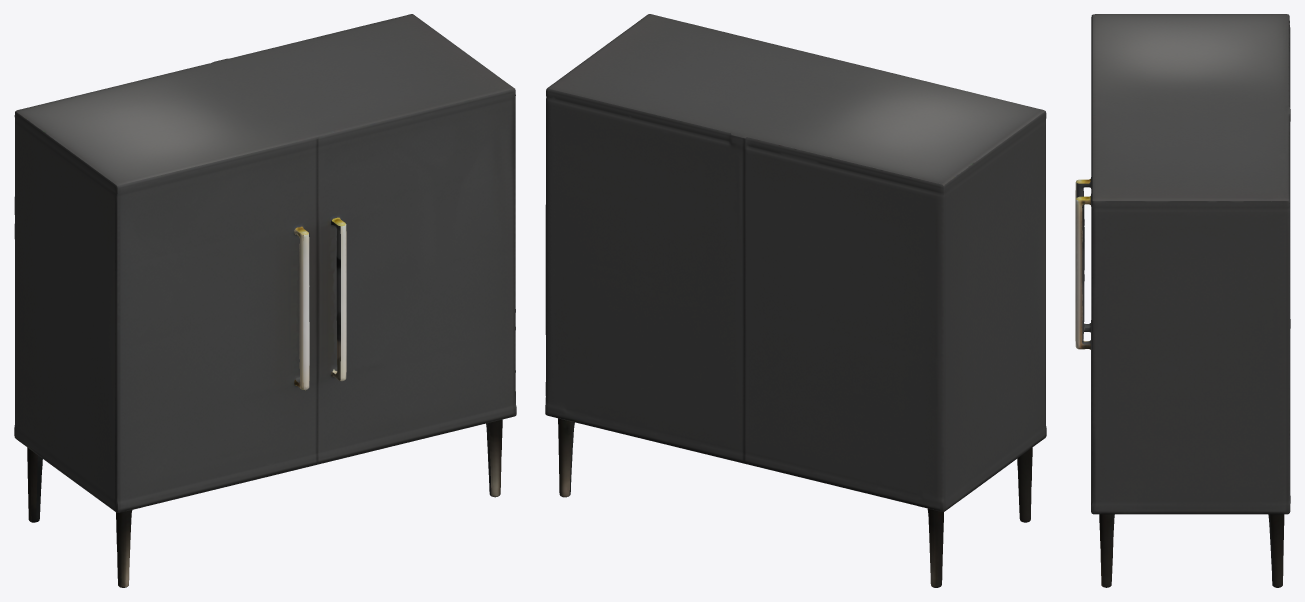
File: cabinet__cabinet#3.glb
The picture shows the model from 3 angles, left to right: view 1: azimuth 30°, elevation 25°; view 2: azimuth 150°, elevation 25°; view 3: azimuth 270°, elevation 25°; orthographic projection. The views are drawn at different scales.
Parts seen in each view (by area): view 1: tmp2kpg3s1l.ply; view 2: tmp2kpg3s1l.ply; view 3: tmp2kpg3s1l.ply.
Part boxes in pixels (left/top/right/bottom): tmp2kpg3s1l.ply: left=14, top=14, right=516, bottom=587; tmp2kpg3s1l.ply: left=545, top=14, right=1046, bottom=587; tmp2kpg3s1l.ply: left=1075, top=14, right=1290, bottom=587.
Size of the model in its own units: 1.99 by 1.95 by 0.9672.
1 material, 1 textured.
